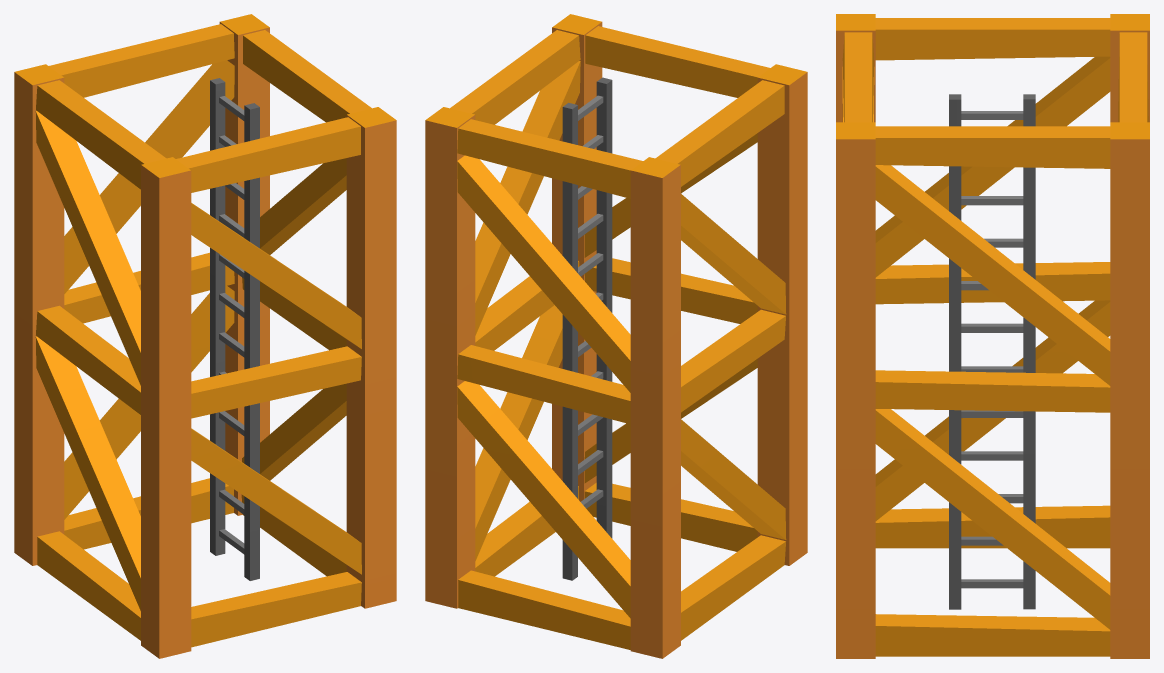
The model's file is TowerCrane_Add.fbx.
3 renders of one model, left to right at view 1: azimuth 30°, elevation 25°; view 2: azimuth 150°, elevation 25°; view 3: azimuth 270°, elevation 25°, orthographic. The views are drawn at different scales.
Visible parts, largest first — view 1: TowerCrane_Add; view 2: TowerCrane_Add; view 3: TowerCrane_Add.
Part boxes in pixels (x1=…): TowerCrane_Add: x1=14, y1=14, x2=396, y2=658; TowerCrane_Add: x1=425, y1=14, x2=807, y2=658; TowerCrane_Add: x1=836, y1=14, x2=1149, y2=658.
Size of the model in its own units: 93.05 by 180 by 98.6.
